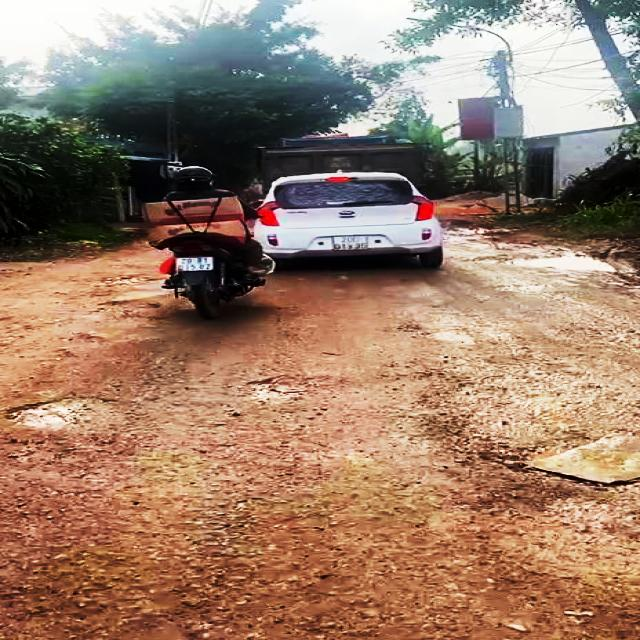pothole: (8, 392, 130, 427), (469, 251, 618, 274), (241, 375, 331, 404)
